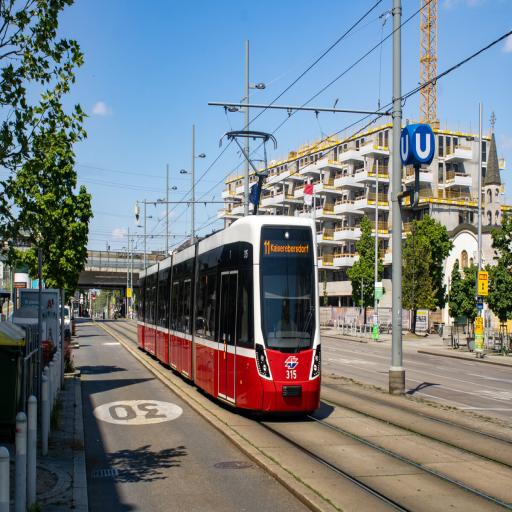Flexity: (137, 214, 325, 414)
